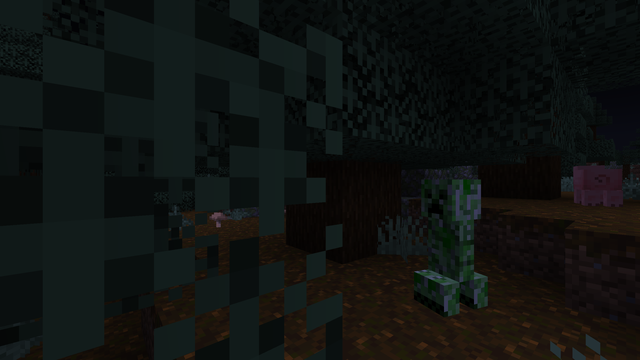cochons: (568, 167, 622, 206)
creepers: (416, 173, 482, 319)
